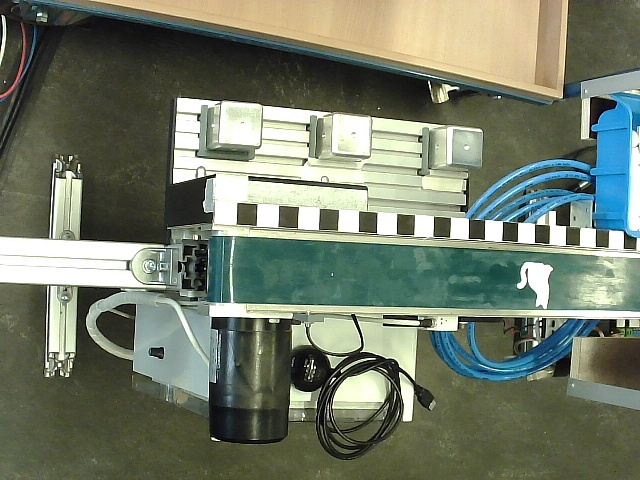cat: (515, 261, 555, 310)
